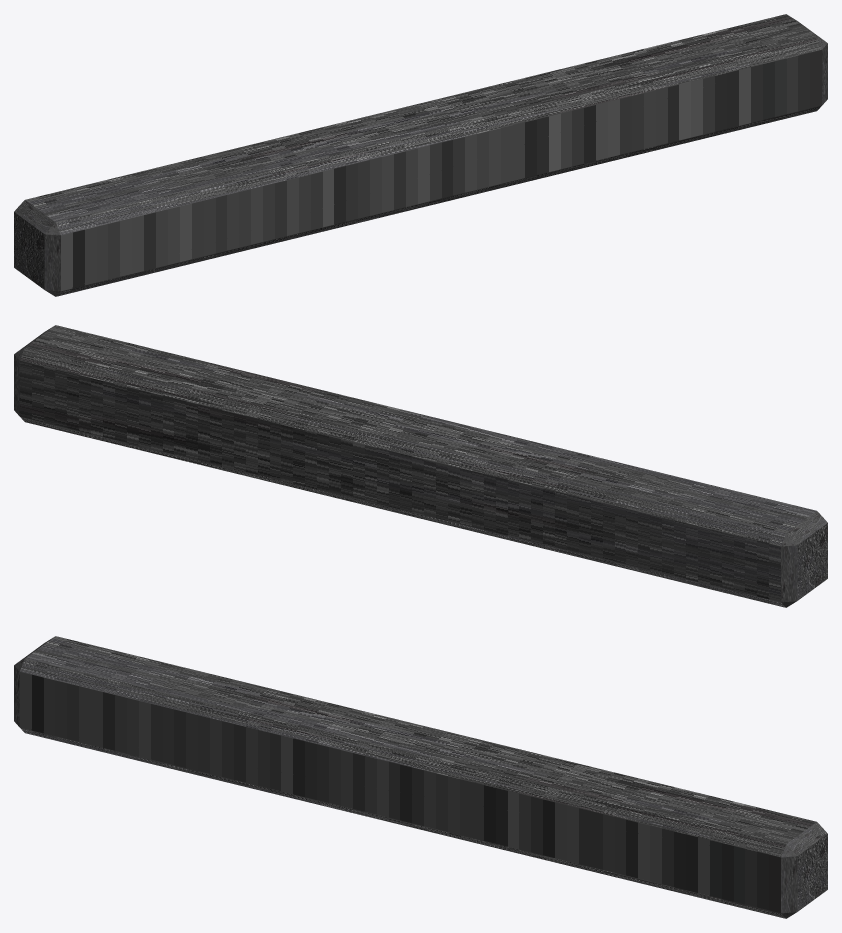
The model's file is bar_horizontal.obj.
3 views of the same model, one above another, from view 1: azimuth 30°, elevation 25°; view 2: azimuth 150°, elevation 25°; view 3: azimuth 330°, elevation 25° (orthographic).
Parts seen in each view (by area): view 1: beveled_cuboid; view 2: beveled_cuboid; view 3: beveled_cuboid.
Part boxes in pixels (x1,y1,x2,y2): beveled_cuboid: [14, 14, 827, 296]; beveled_cuboid: [14, 325, 827, 607]; beveled_cuboid: [14, 636, 827, 918].
Size of the model in its own units: 11 by 1 by 1.
Materials: 1 (1 with a texture image).
